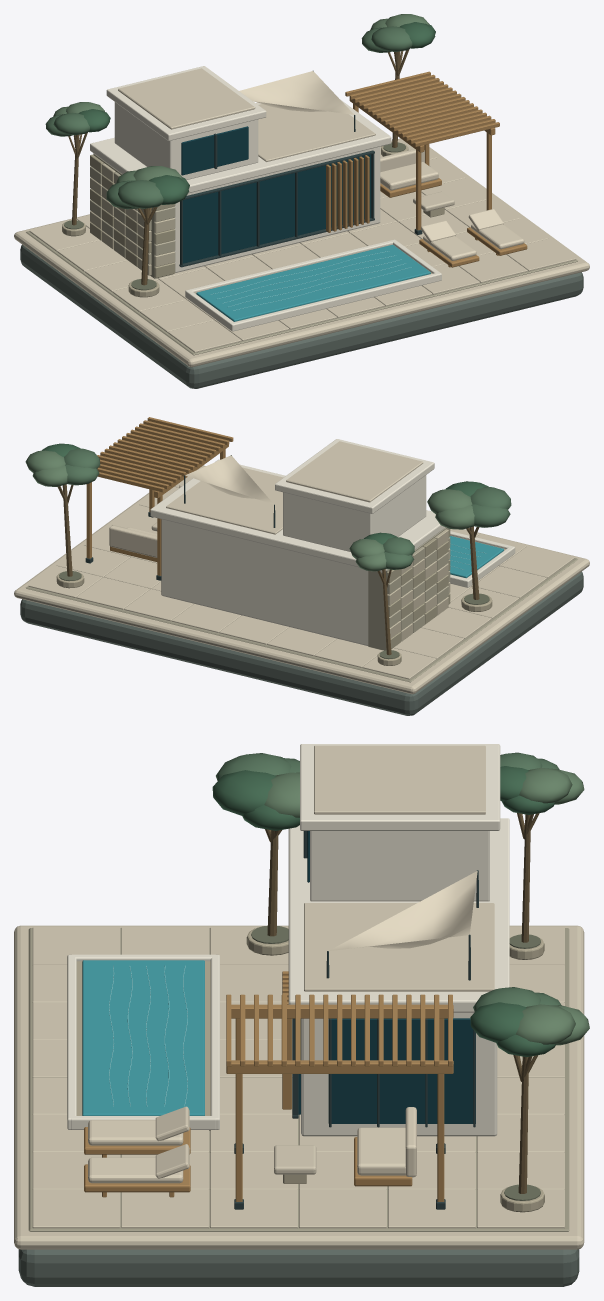
The model's file is inastia-villa.glb.
3 renders of one model, top to bottom at view 1: azimuth 30°, elevation 25°; view 2: azimuth 150°, elevation 25°; view 3: azimuth 270°, elevation 25°, orthographic. The views are drawn at different scales.
Parts seen in each view (by area): view 1: Honed travertine, Lime plaster | warm ivory, Island foundation, Oiled chestnut pergola, Smoked blue architectural glazing, Mediterranean pool water, Natural linen cushions, Pine foliage 1, Bronze dark window frames, Recessed stone joints, Pine foliage 0, Limestone course 0 (+7 smaller); view 2: Honed travertine, Lime plaster | warm ivory, Island foundation, Oiled chestnut pergola, Pine foliage 2, Recessed stone joints, Pine foliage 1, Natural linen cushions, Limestone course 0, Limestone course 1, Limestone course 2, Pine bark (+4 smaller); view 3: Honed travertine, Lime plaster | warm ivory, Island foundation, Mediterranean pool water, Oiled chestnut pergola, Natural linen cushions, Smoked blue architectural glazing, Pine foliage 0, Recessed stone joints, Pine foliage 2, Cut Corsican limestone, Pine bark (+4 smaller).
Boxes of the visible parts, <box> form: Honed travertine: <box>14,68,589,367</box>; Lime plaster | warm ivory: <box>90,66,441,331</box>; Island foundation: <box>20,244,583,388</box>; Oiled chestnut pergola: <box>326,71,527,267</box>; Smoked blue architectural glazing: <box>181,126,371,263</box>; Mediterranean pool water: <box>196,244,430,321</box>; Natural linen cushions: <box>239,71,524,260</box>; Pine foliage 1: <box>45,26,412,209</box>; Bronze dark window frames: <box>179,70,422,267</box>; Recessed stone joints: <box>26,153,577,355</box>; Pine foliage 0: <box>79,22,435,204</box>; Limestone course 0: <box>90,154,175,277</box>; Honed travertine: <box>14,441,589,694</box>; Lime plaster | warm ivory: <box>150,439,515,645</box>; Island foundation: <box>20,571,583,715</box>; Oiled chestnut pergola: <box>86,417,233,575</box>; Pine foliage 2: <box>25,450,474,571</box>; Recessed stone joints: <box>26,527,577,682</box>; Pine foliage 1: <box>64,448,511,569</box>; Natural linen cushions: <box>109,455,273,557</box>; Limestone course 0: <box>387,528,450,648</box>; Limestone course 1: <box>387,529,450,641</box>; Limestone course 2: <box>387,537,450,632</box>; Pine bark: <box>57,484,479,655</box>; Honed travertine: <box>14,745,584,1249</box>; Lime plaster | warm ivory: <box>67,744,509,1136</box>; Island foundation: <box>18,1249,579,1286</box>; Mediterranean pool water: <box>82,960,204,1115</box>; Oiled chestnut pergola: <box>84,971,453,1201</box>; Natural linen cushions: <box>88,871,477,1183</box>; Smoked blue architectural glazing: <box>298,831,475,1123</box>; Pine foliage 0: <box>212,766,555,1057</box>; Recessed stone joints: <box>28,928,569,1231</box>; Pine foliage 2: <box>264,767,589,1045</box>; Cut Corsican limestone: <box>76,926,544,1212</box>; Pine bark: <box>265,813,539,1193</box>.
Size of the model in its own units: 9.33 by 4.03 by 7.19.
